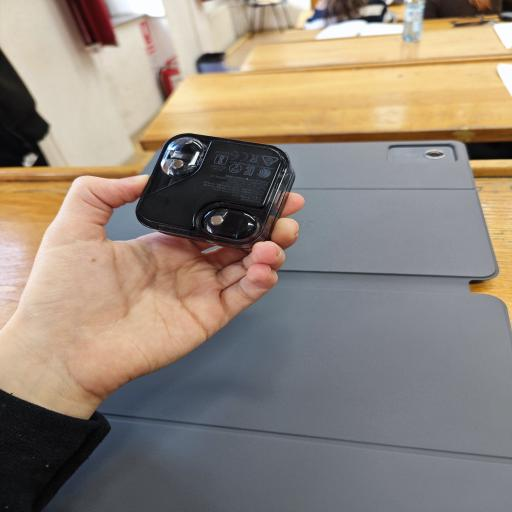CASTI: (129, 132, 305, 248)
